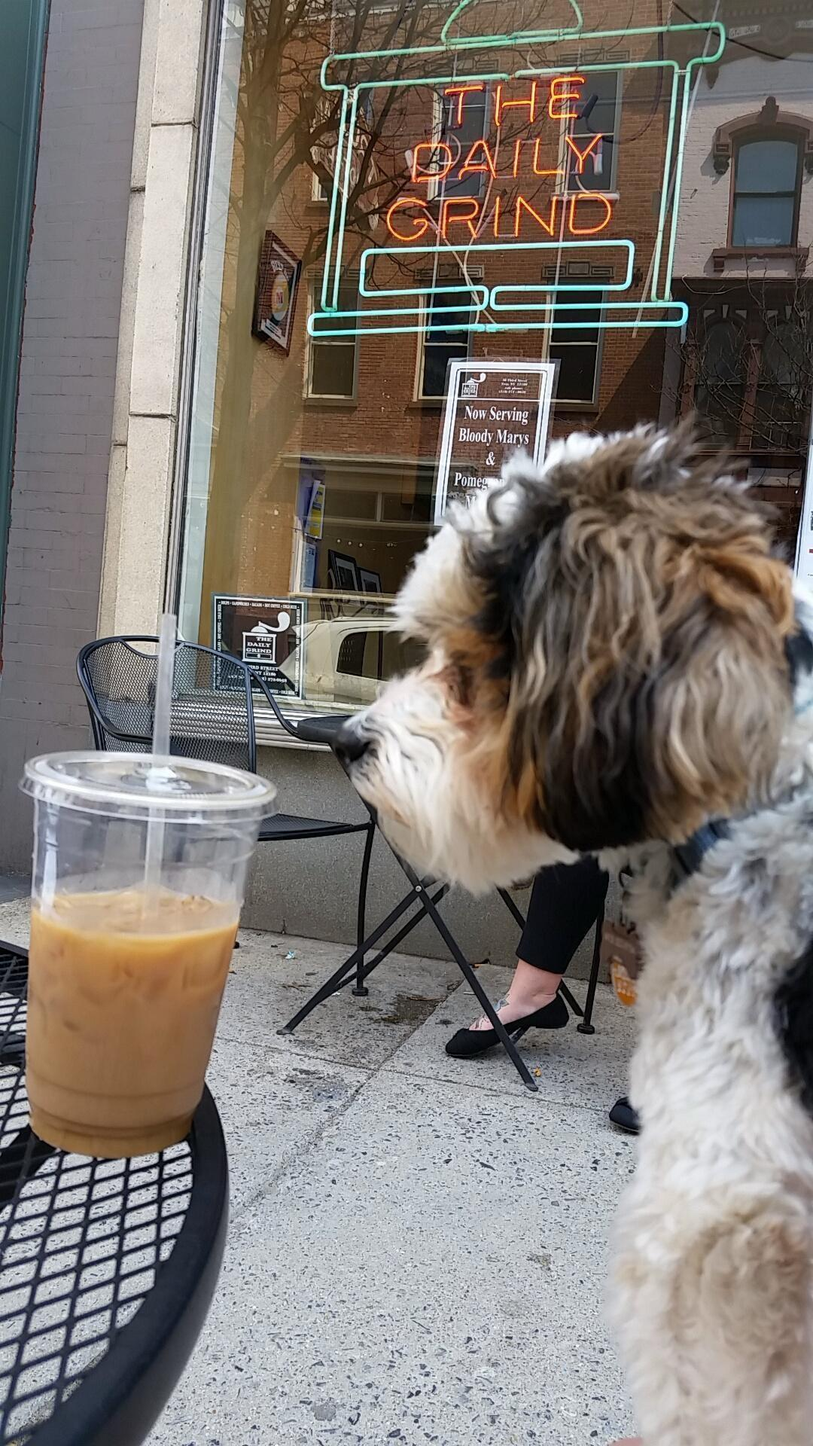cup-disposable: (23, 748, 270, 1153)
